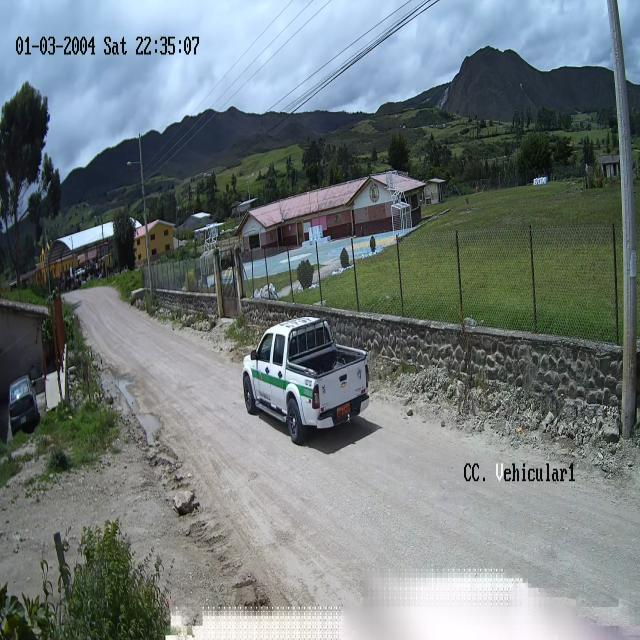CMT: (241, 319, 370, 446)
